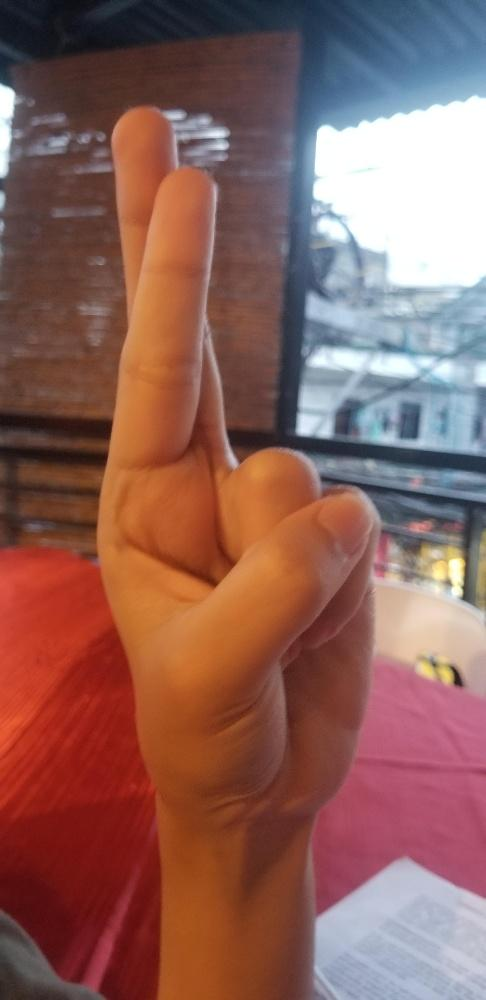r: (91, 104, 379, 833)
